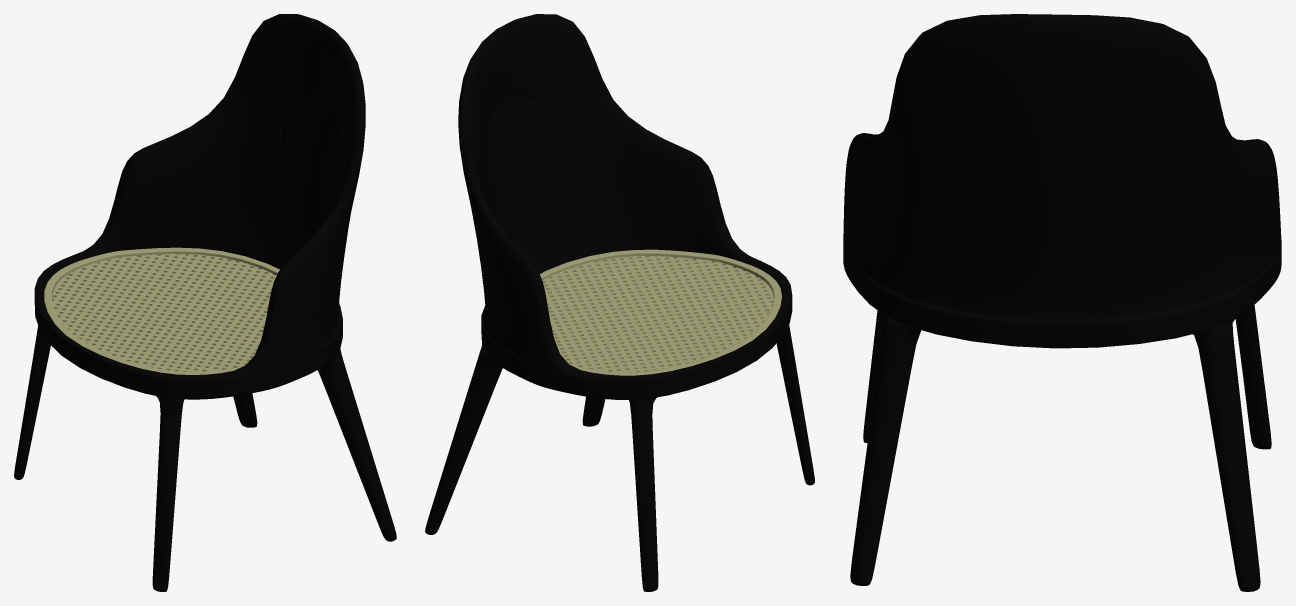
The model's file is testSketfab.fbx.
3 views of the same model, side by side, from view 1: azimuth 30°, elevation 25°; view 2: azimuth 150°, elevation 25°; view 3: azimuth 270°, elevation 25° (orthographic). The views are drawn at different scales.
Visible parts, largest first — view 1: Chair; view 2: Chair; view 3: Chair.
Boxes of the visible parts, x1,y1,x2,y2 form: Chair: [14, 14, 396, 591]; Chair: [425, 14, 814, 591]; Chair: [843, 14, 1281, 591].
Size of the model in its own units: 53.45 by 84.59 by 58.09.
